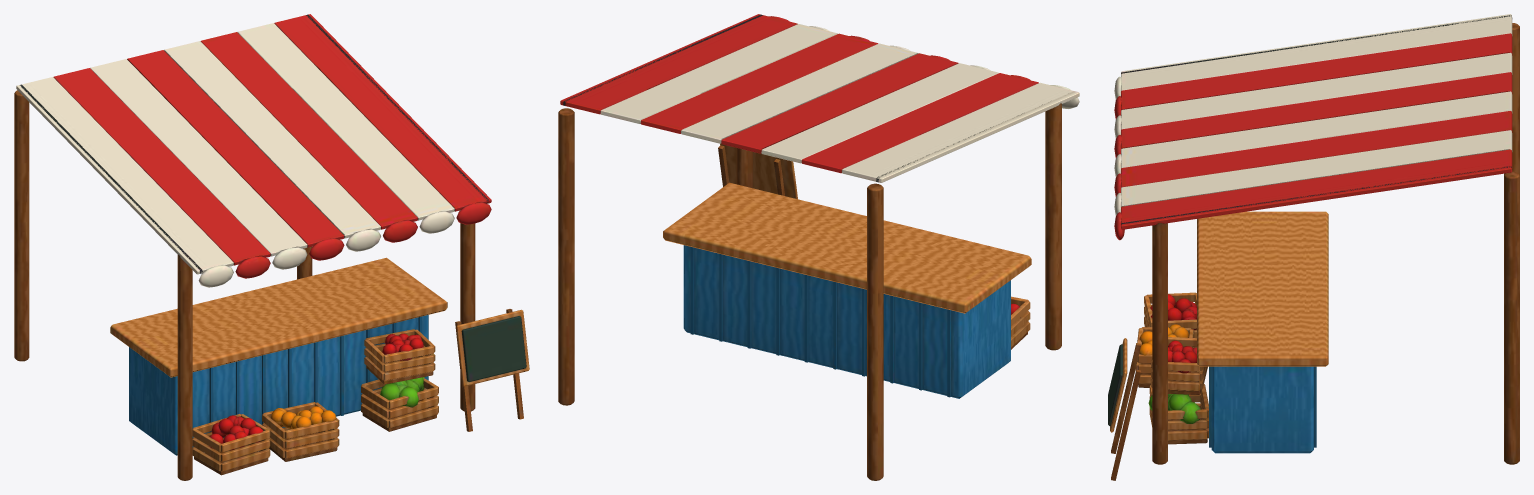
The model's file is stall.glb.
The picture shows the model from 3 angles, left to right: view 1: azimuth 30°, elevation 25°; view 2: azimuth 150°, elevation 25°; view 3: azimuth 270°, elevation 25°; orthographic projection. The views are drawn at different scales.
Parts seen in each view (by area): view 1: stall; view 2: stall; view 3: stall.
Boxes of the visible parts, x1=… form: stall: x1=14, y1=14, x2=529, y2=480; stall: x1=558, y1=14, x2=1079, y2=480; stall: x1=1108, y1=14, x2=1519, y2=480.
Size of the model in its own units: 1.67 by 1.35 by 1.69.
1 material, 1 textured.
